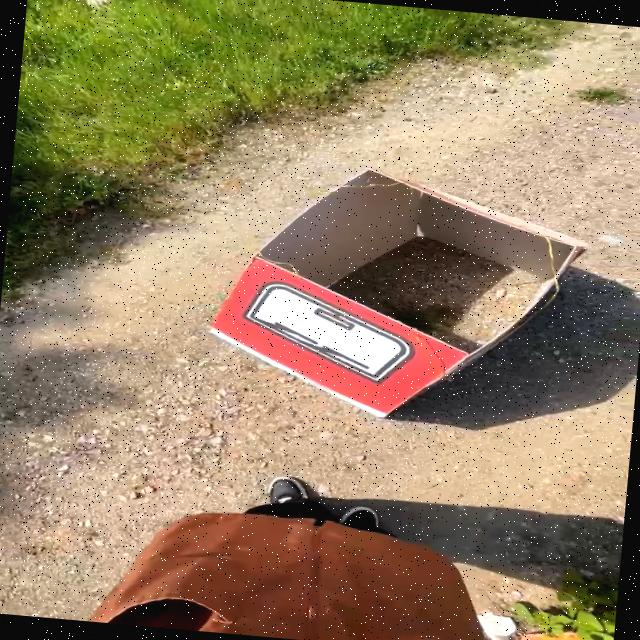red_car: (163, 142, 640, 447)
